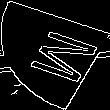M_SE: (12, 23, 98, 87)
